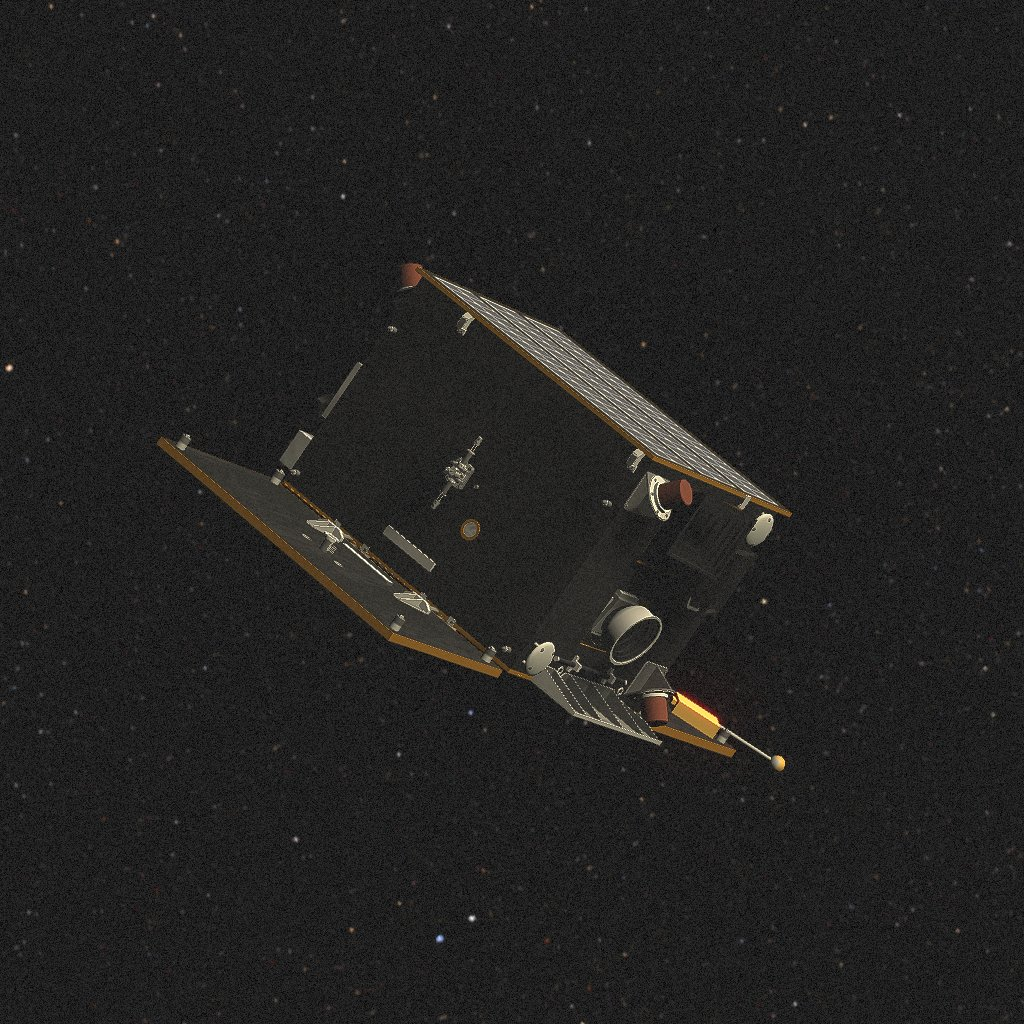proba_2: (184, 292, 795, 742)
